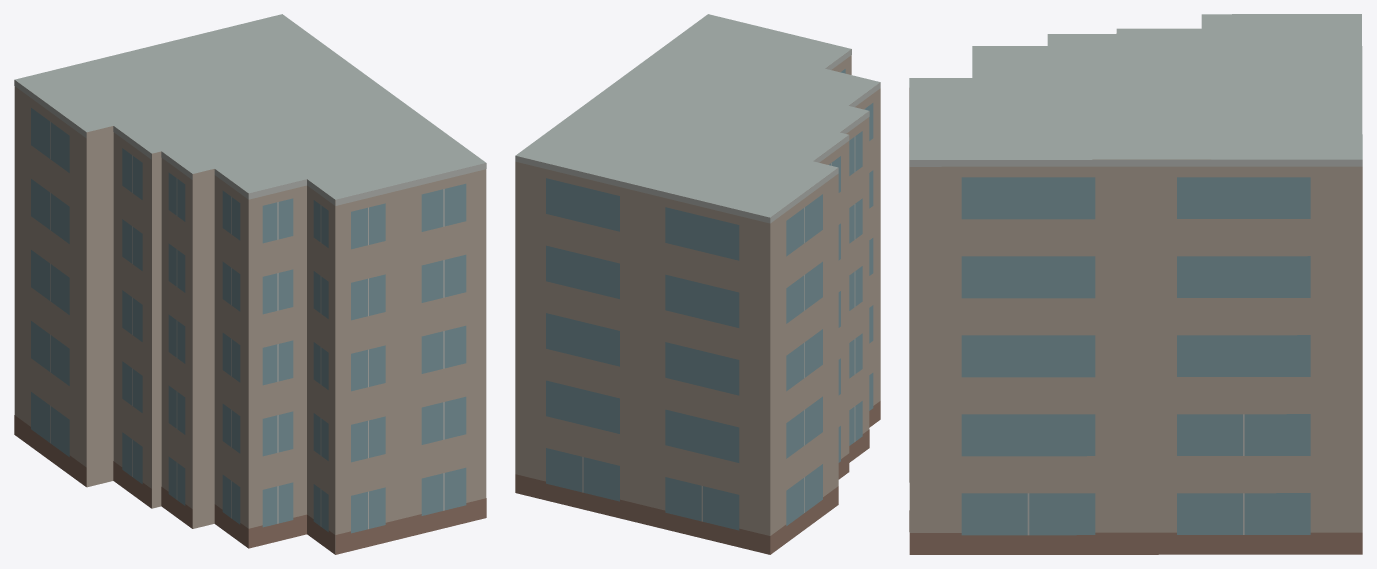
The model's file is survey-upis-32987639.glb.
3 renders of one model, left to right at view 1: azimuth 30°, elevation 25°; view 2: azimuth 150°, elevation 25°; view 3: azimuth 270°, elevation 25°, orthographic. The views are drawn at different scales.
Visible parts, largest first — view 1: survey-upis-32987639.tmp; view 2: survey-upis-32987639.tmp; view 3: survey-upis-32987639.tmp.
Boxes of the visible parts, bbox=[...] form: survey-upis-32987639.tmp: bbox=[14, 14, 486, 554]; survey-upis-32987639.tmp: bbox=[515, 14, 880, 554]; survey-upis-32987639.tmp: bbox=[909, 14, 1362, 554].
Size of the model in its own units: 11.02 by 13.9 by 14.47.
